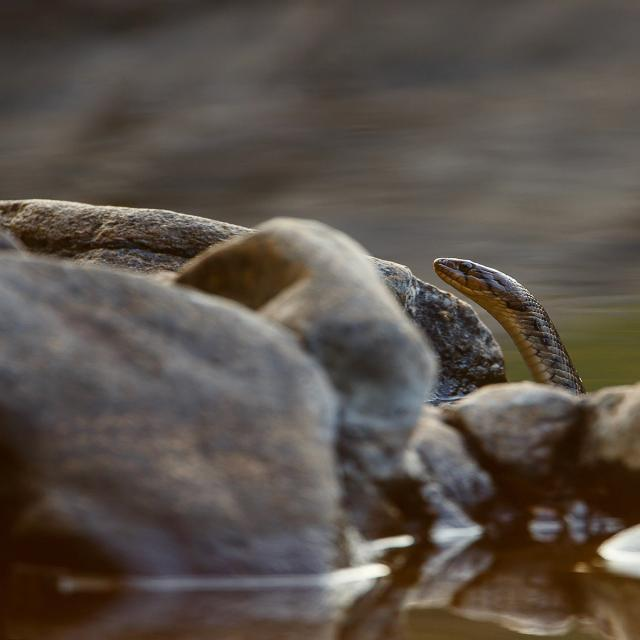Snake: (431, 254, 588, 398)
